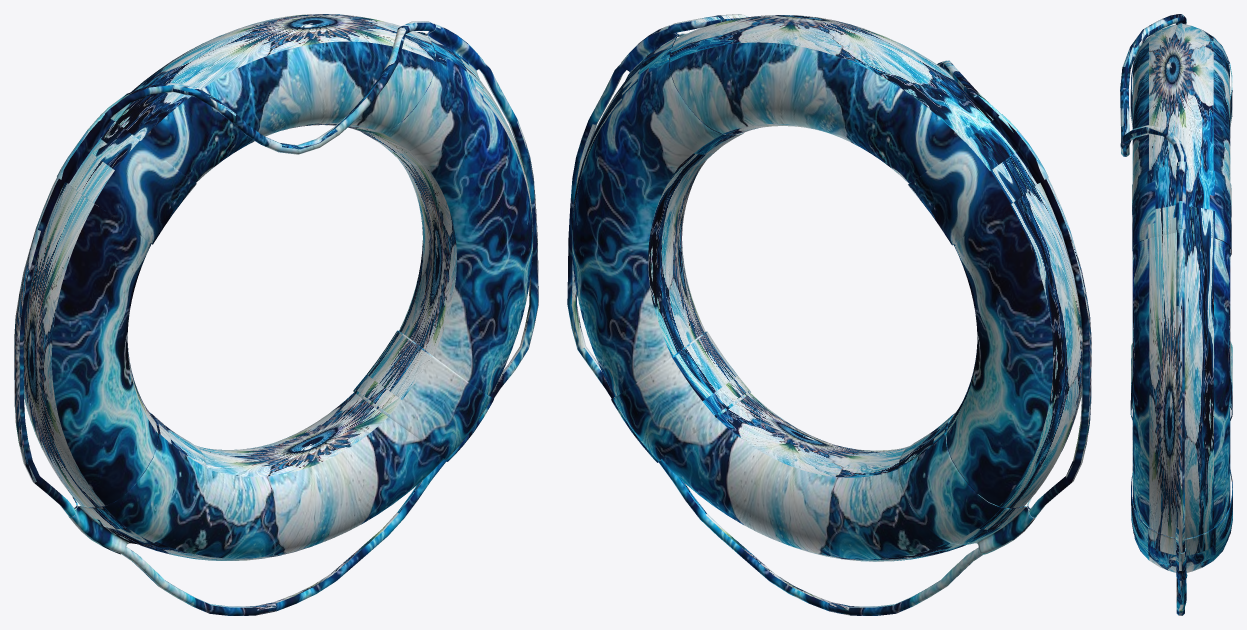
The model's file is ph_lifebuoy.glb.
3 views of the same model, side by side, from view 1: azimuth 30°, elevation 25°; view 2: azimuth 150°, elevation 25°; view 3: azimuth 270°, elevation 25° (orthographic). The views are drawn at different scales.
Visible parts, largest first — view 1: A; view 2: A; view 3: A.
Boxes of the visible parts, left/top/right/bottom form: A: left=14, top=14, right=538, bottom=615; A: left=567, top=14, right=1091, bottom=615; A: left=1120, top=14, right=1232, bottom=615.
Size of the model in its own units: 1.86 by 2 by 0.3688.
1 material, 1 textured.
